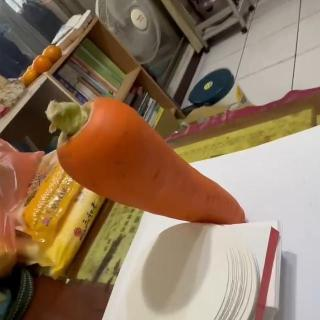carrot: (43, 96, 246, 226)
